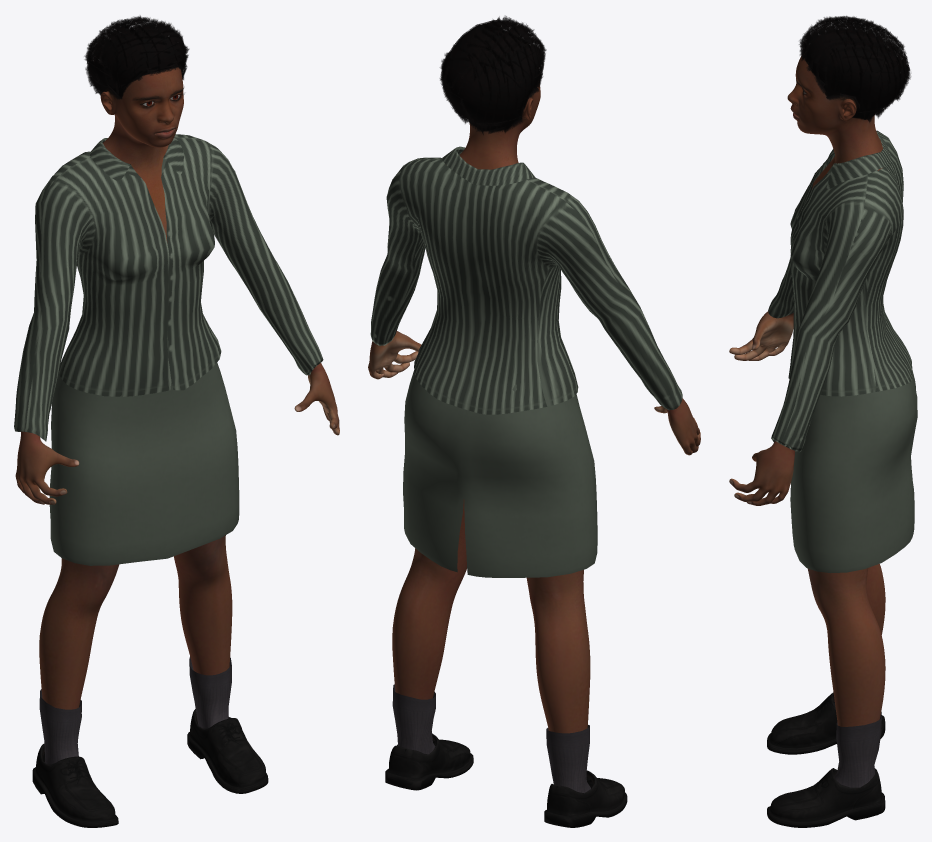
Rendered from singer_realistic.glb.
The picture shows the model from 3 angles, left to right: view 1: azimuth 30°, elevation 25°; view 2: azimuth 150°, elevation 25°; view 3: azimuth 270°, elevation 25°; orthographic projection. The views are drawn at different scales.
Visible parts, largest first — view 1: singer.female_elegantsuit01, singer.body, singer.shoes04, singer.afro01; view 2: singer.female_elegantsuit01, singer.body, singer.shoes04, singer.afro01; view 3: singer.female_elegantsuit01, singer.body, singer.shoes04, singer.afro01.
Part boxes in pixels (x1,y1,x2,y2): singer.female_elegantsuit01: [14, 134, 323, 565]; singer.body: [15, 30, 339, 709]; singer.shoes04: [32, 656, 268, 827]; singer.afro01: [84, 15, 189, 99]; singer.female_elegantsuit01: [370, 146, 682, 577]; singer.body: [368, 35, 700, 733]; singer.shoes04: [385, 684, 627, 827]; singer.afro01: [439, 15, 546, 135]; singer.female_elegantsuit01: [768, 130, 917, 573]; singer.body: [729, 44, 885, 726]; singer.shoes04: [767, 692, 885, 827]; singer.afro01: [799, 15, 910, 122].
Bounding box in the file's own units: 0.6688 × 1.55 × 0.3468.
8 materials, 8 textured.
